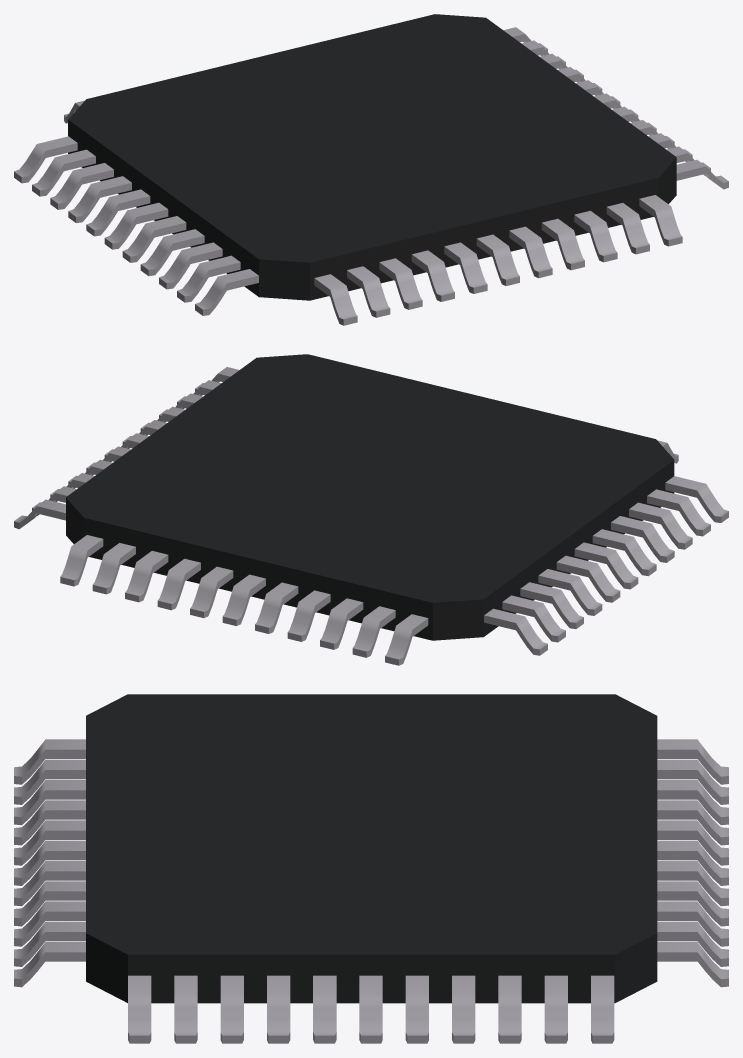
File: Micro processor.fbx
The picture shows the model from 3 angles, top to bottom: view 1: azimuth 30°, elevation 25°; view 2: azimuth 150°, elevation 25°; view 3: azimuth 270°, elevation 25°; orthographic projection. The views are drawn at different scales.
Parts seen in each view (by area): view 1: micro_processor; view 2: micro_processor; view 3: micro_processor.
Boxes of the visible parts, box(x1,y1,x2,y2) form: micro_processor: box(14, 14, 728, 325); micro_processor: box(14, 354, 728, 665); micro_processor: box(14, 694, 728, 1043).
Bounding box in the file's own units: 0.6793 × 0.0541 × 0.6256.
